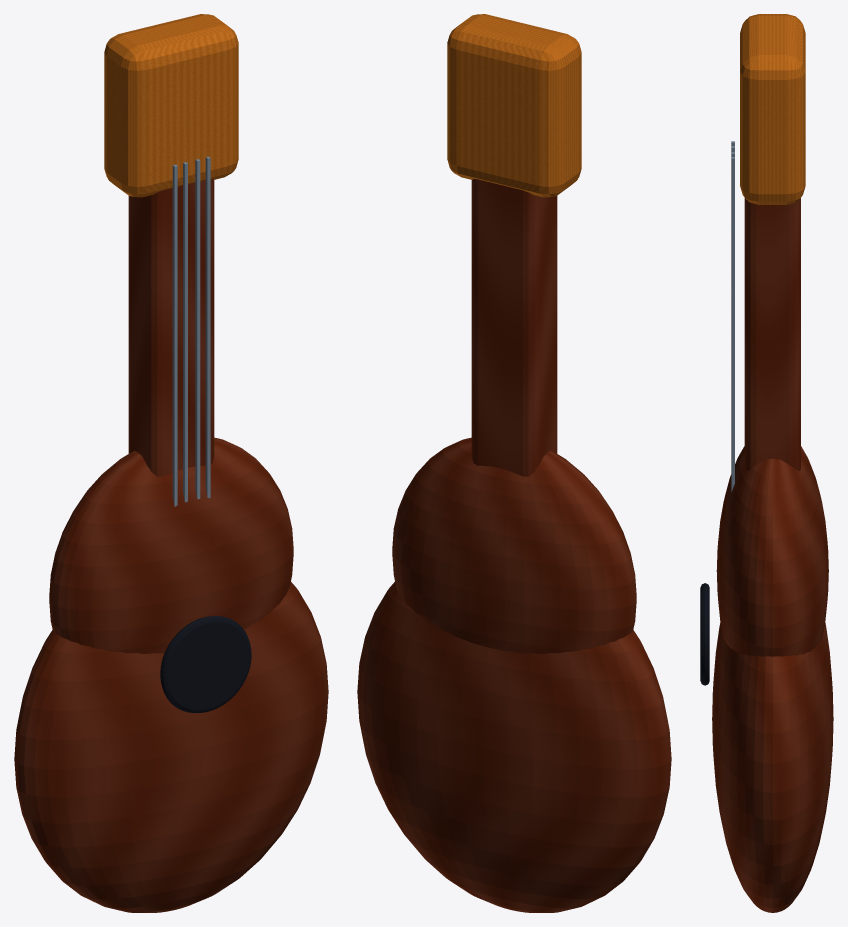
File: guitare-miniature-signee.glb
The picture shows the model from 3 angles, left to right: view 1: azimuth 30°, elevation 25°; view 2: azimuth 150°, elevation 25°; view 3: azimuth 270°, elevation 25°; orthographic projection.
Visible parts, largest first — view 1: Caisse basse, Caisse haute, Tete, Manche, Rosace, Corde, Corde.003, Corde.002, Corde.001; view 2: Caisse basse, Caisse haute, Manche, Tete; view 3: Caisse basse, Caisse haute, Manche, Tete, Corde.003, Rosace.
Boxes of the visible parts, x1,y1,x2,y2 form: Caisse basse: [14, 582, 328, 912]; Caisse haute: [49, 437, 293, 653]; Tete: [104, 14, 238, 197]; Manche: [128, 179, 214, 476]; Rosace: [160, 616, 251, 713]; Corde: [172, 164, 177, 506]; Corde.003: [205, 156, 210, 498]; Corde.002: [195, 159, 200, 499]; Corde.001: [183, 162, 187, 502]; Caisse basse: [357, 582, 671, 912]; Caisse haute: [392, 437, 636, 653]; Manche: [471, 179, 557, 476]; Tete: [447, 14, 581, 197]; Caisse basse: [712, 622, 833, 912]; Caisse haute: [716, 446, 828, 656]; Manche: [744, 198, 800, 470]; Tete: [740, 14, 805, 204]; Corde.003: [731, 157, 734, 492]; Rosace: [700, 583, 709, 685].
Size of the model in its own units: 1.5 by 4.08 by 0.57.
4 materials, 4 textured.
